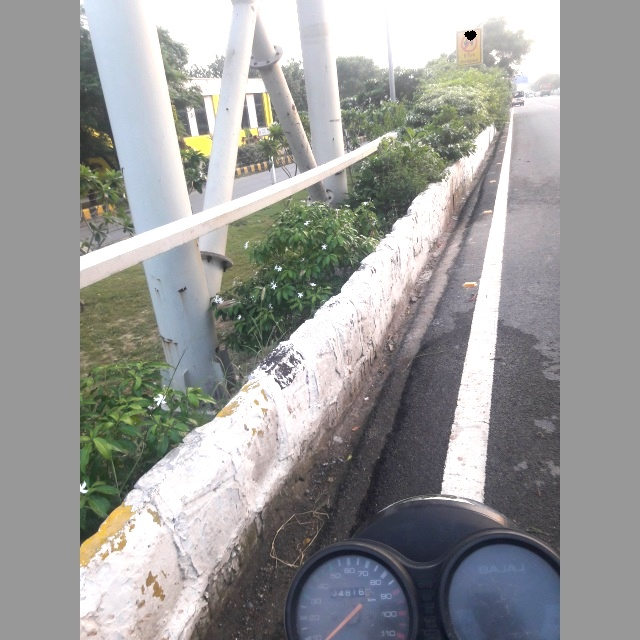U_Turn_Prohibited: (457, 30, 486, 64)
